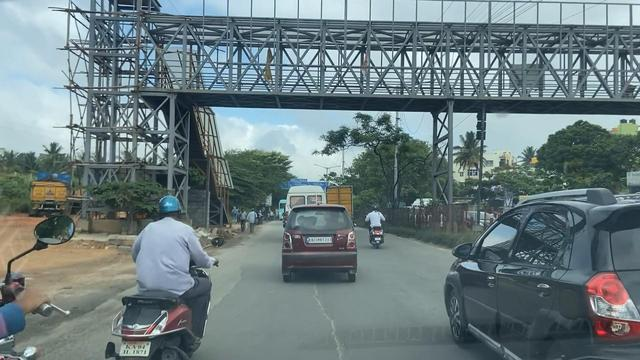LMV: (279, 207, 360, 279), (370, 205, 388, 251)
RoadDamages: (305, 281, 346, 360), (215, 258, 253, 312)
